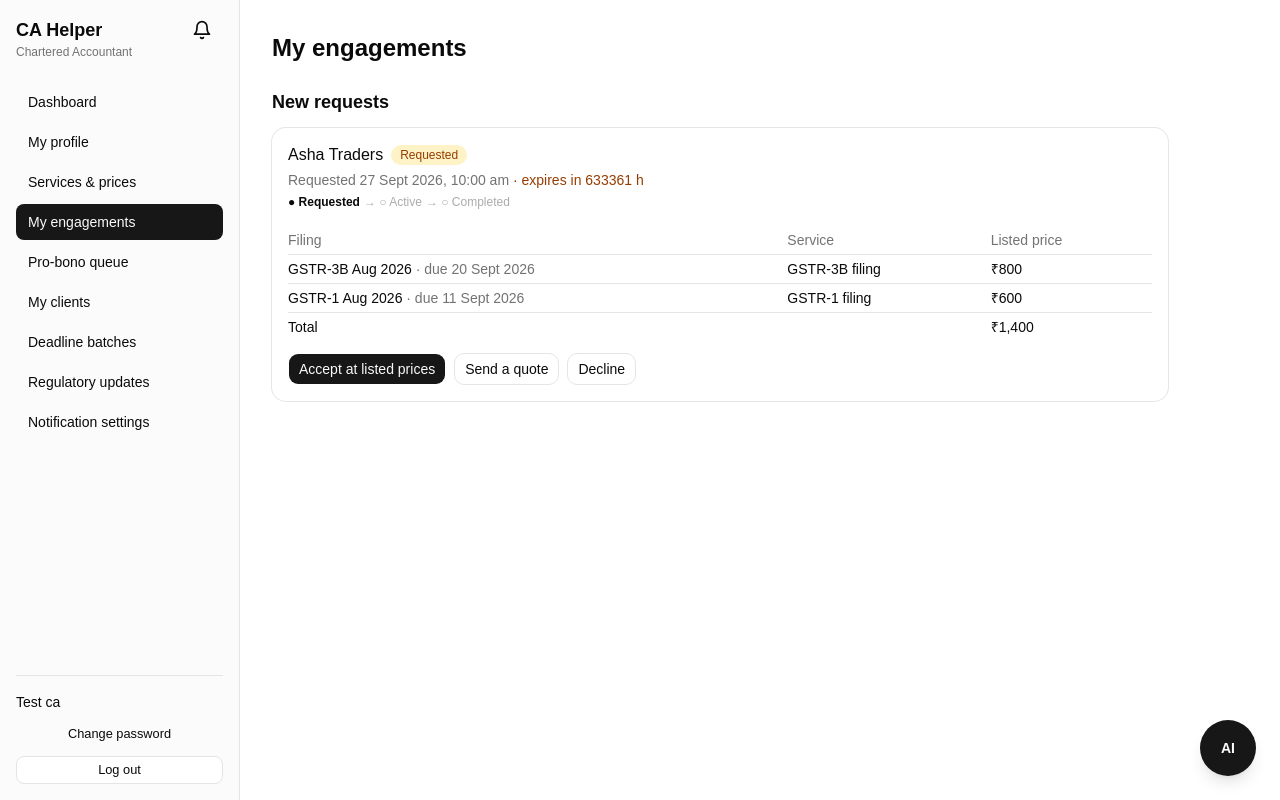
it: CA: My engagements page › needs a reason for a quote
The image size is (1280, 800).
Click the button "Send a quote": click(507, 369) [454, 353, 560, 385]
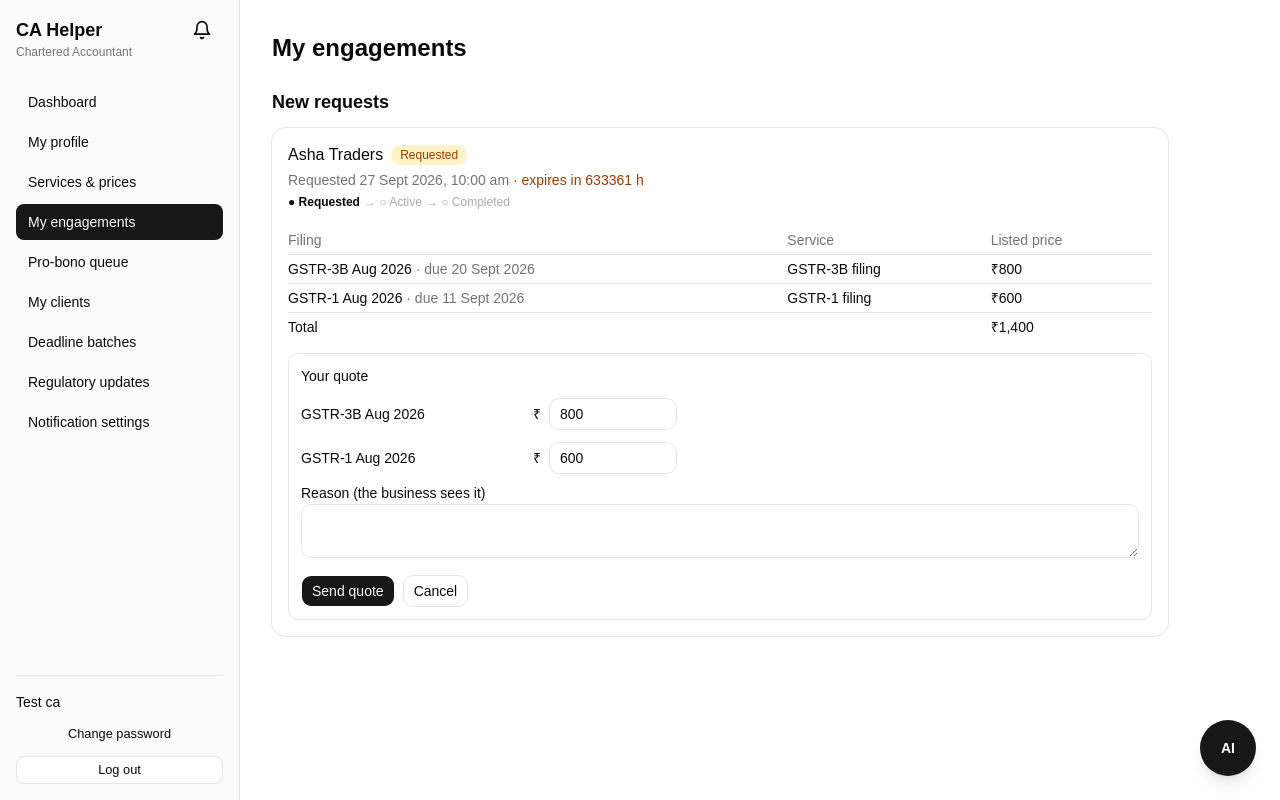
Click the button "Send quote": click(348, 591) [301, 575, 395, 607]
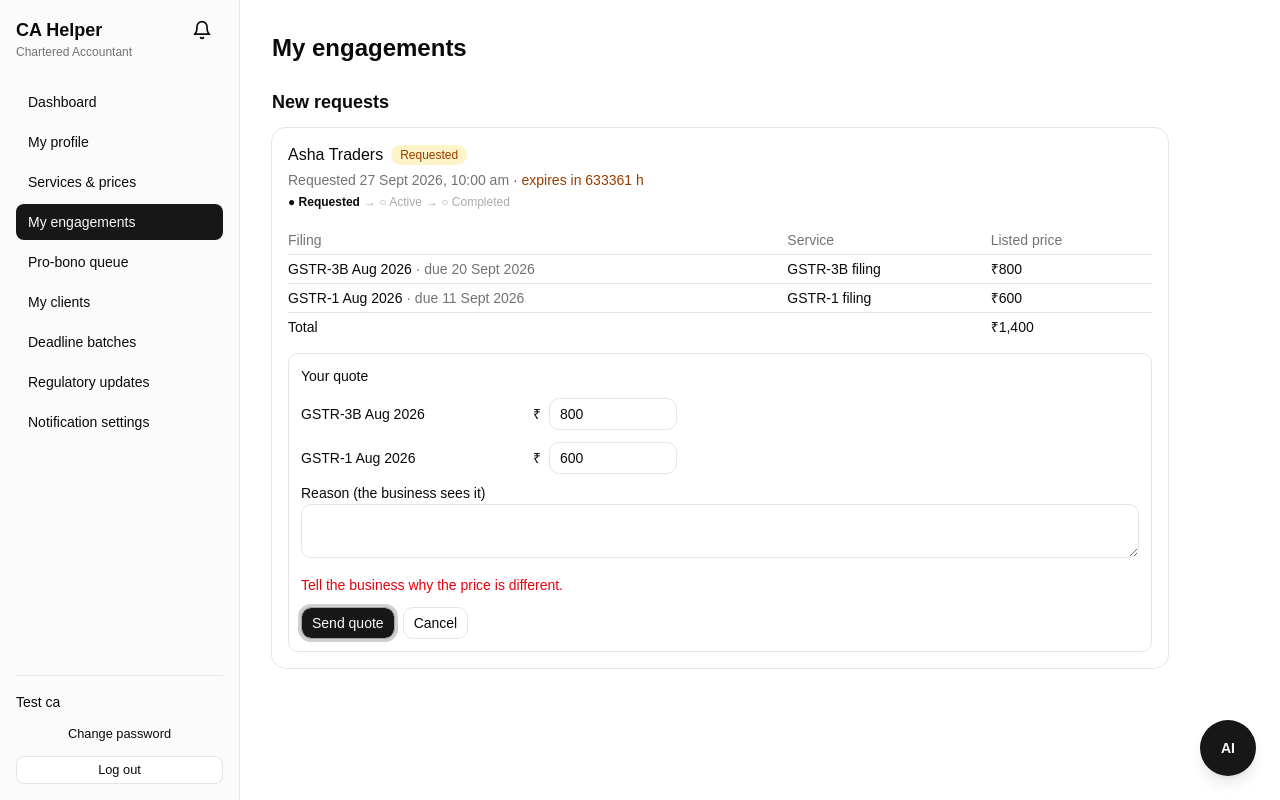
expect the text "Tell the business why the price is different." is shown: met, box [301, 577, 563, 593]
